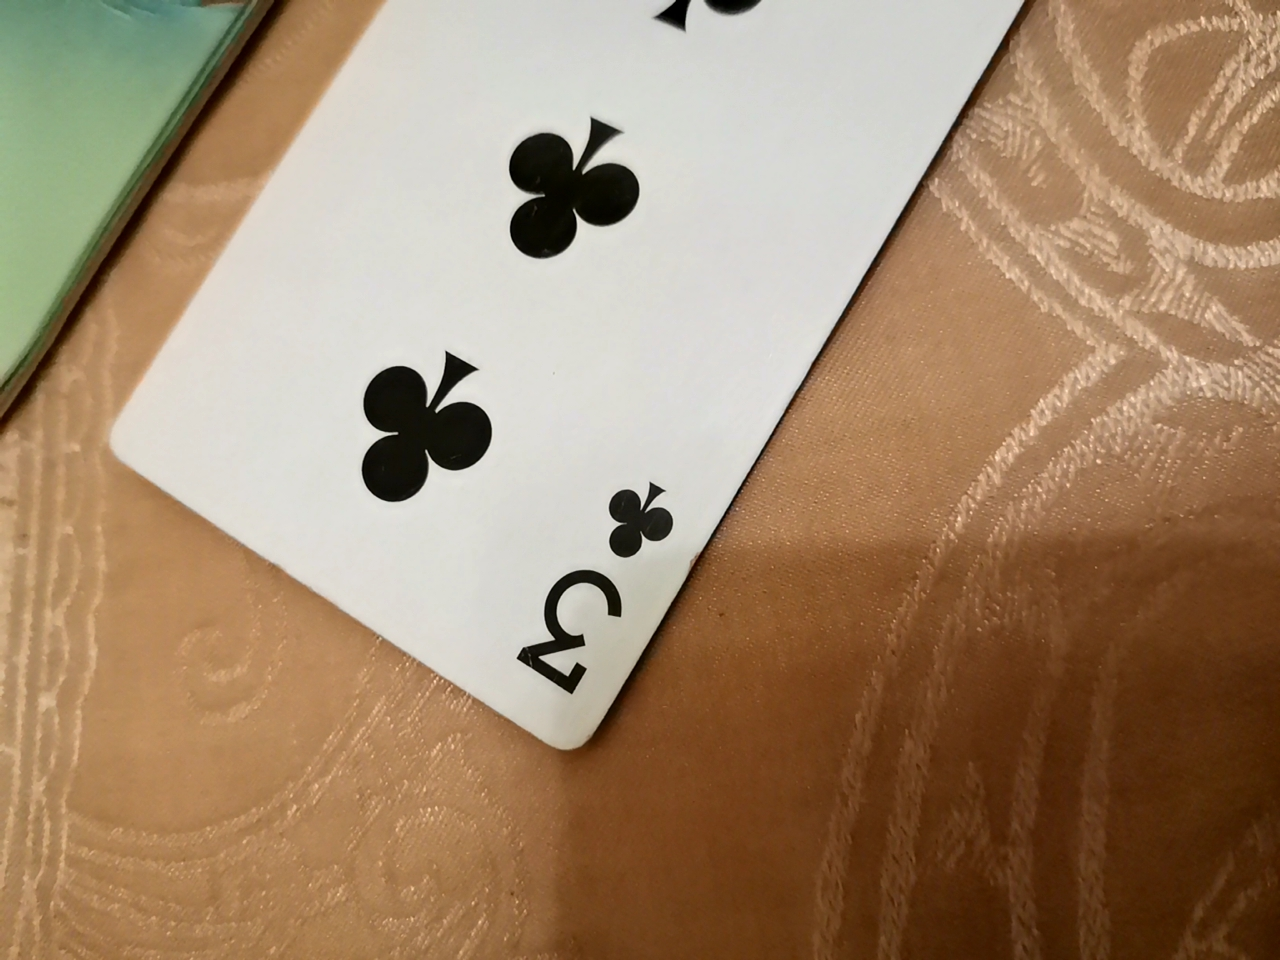mh 3: (111, 10, 1071, 779)
